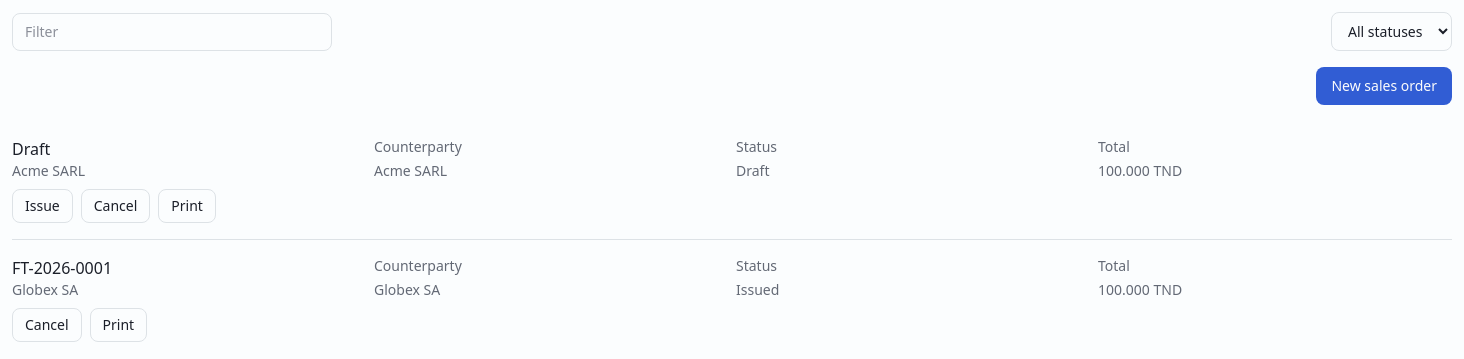
Test: DocumentList filtering › narrows rows through the status dropdown, passing status as a query param
expect the text "Globex SA" is shown 2 times: met, box x1=12 y1=280 x2=78 y2=299; x1=374 y1=280 x2=440 y2=299
Select "Issued" in the dropdown named "Filter by status" at (1392, 32), box x1=1331 y1=12 x2=1452 y2=51
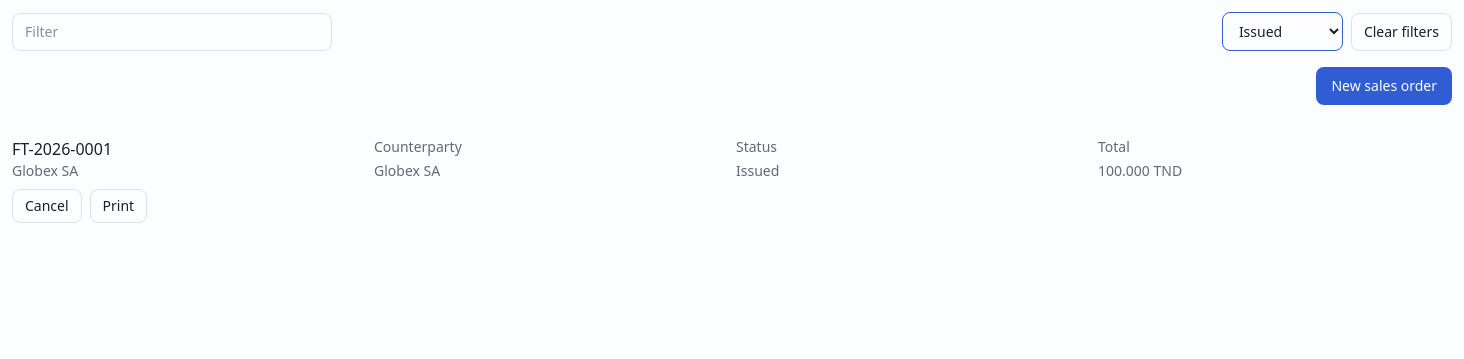
expect the text "Globex SA" is shown 2 times: met, box x1=12 y1=161 x2=78 y2=180; x1=374 y1=161 x2=440 y2=180
expect the text "Acme SARL" is gone: met
